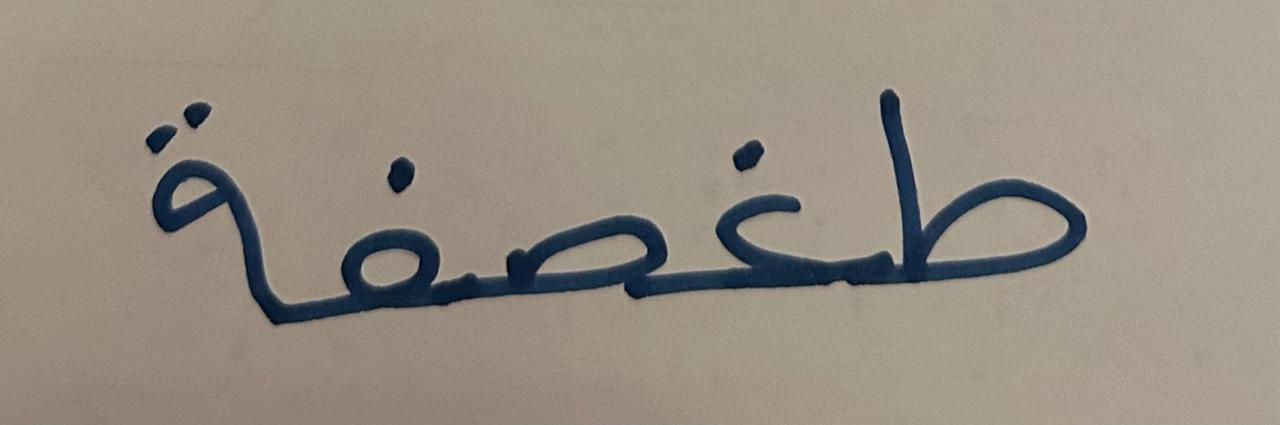feh: (300, 92, 462, 382)
ghain: (675, 66, 830, 356)
seen: (465, 101, 672, 381)
teh: (833, 27, 1118, 342)
thal: (117, 30, 297, 369)
